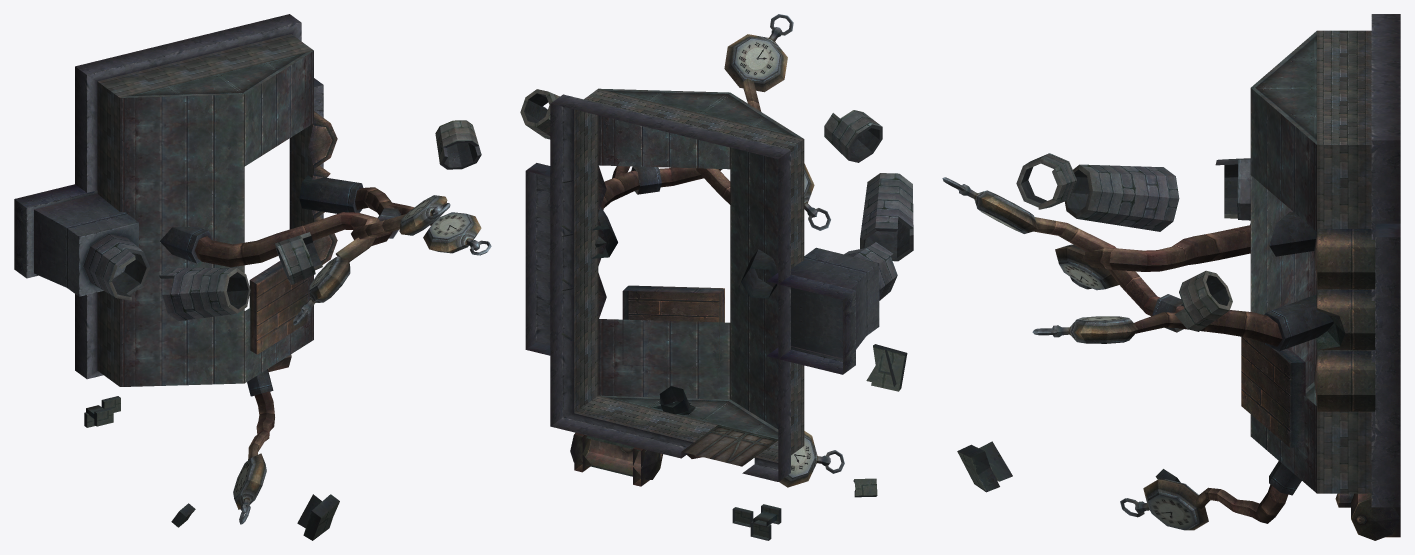
The model's file is guoqu_yewai_394_erzhanjianzhu02.obj.
3 renders of one model, left to right at view 1: azimuth 30°, elevation 25°; view 2: azimuth 150°, elevation 25°; view 3: azimuth 270°, elevation 25°, orthographic. The views are drawn at different scales.
Visible parts, largest first — view 1: guoqu_yewai_394_erzhanjianzhu02; view 2: guoqu_yewai_394_erzhanjianzhu02; view 3: guoqu_yewai_394_erzhanjianzhu02.
Boxes of the visible parts, box(x1,y1,x2,y2) form: guoqu_yewai_394_erzhanjianzhu02: box(14, 14, 491, 540); guoqu_yewai_394_erzhanjianzhu02: box(520, 14, 913, 540); guoqu_yewai_394_erzhanjianzhu02: box(942, 14, 1400, 540).
Bounding box in the file's own units: 2842 × 2802 × 2467.
Materials: 7 (7 with a texture image).
